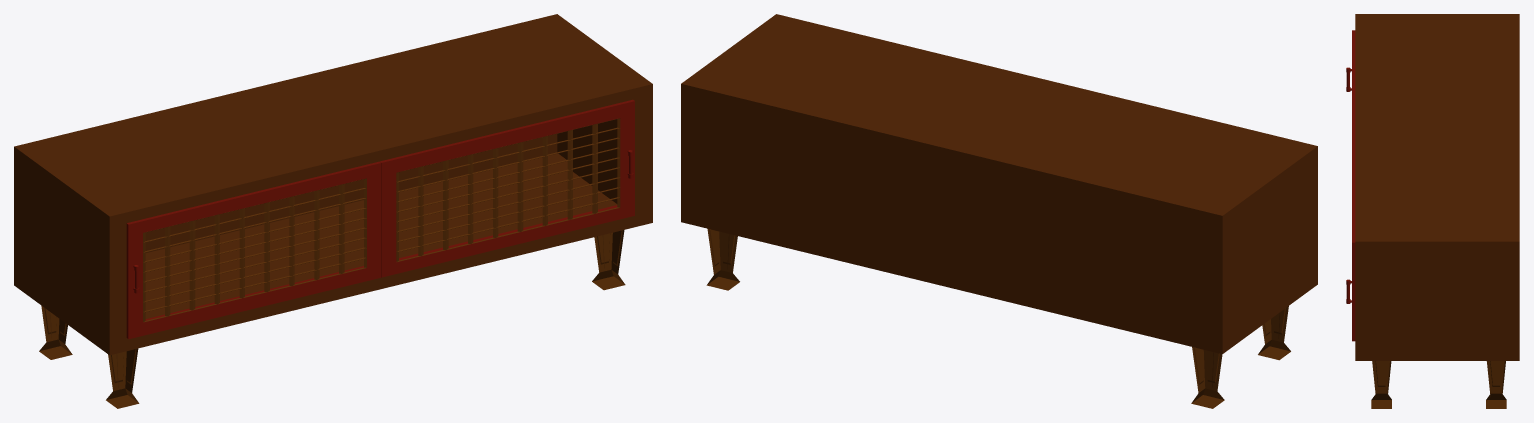
The model's file is Rack.fbx.
The picture shows the model from 3 angles, left to right: view 1: azimuth 30°, elevation 25°; view 2: azimuth 150°, elevation 25°; view 3: azimuth 270°, elevation 25°; orthographic projection. The views are drawn at different scales.
Parts seen in each view (by area): view 1: Cube.061; view 2: Cube.061; view 3: Cube.061.
Boxes of the visible parts, bbox=[...] form: Cube.061: bbox=[14, 14, 652, 408]; Cube.061: bbox=[681, 14, 1317, 408]; Cube.061: bbox=[1346, 14, 1519, 408].
Bounding box in the file's own units: 964 × 345 × 311.
